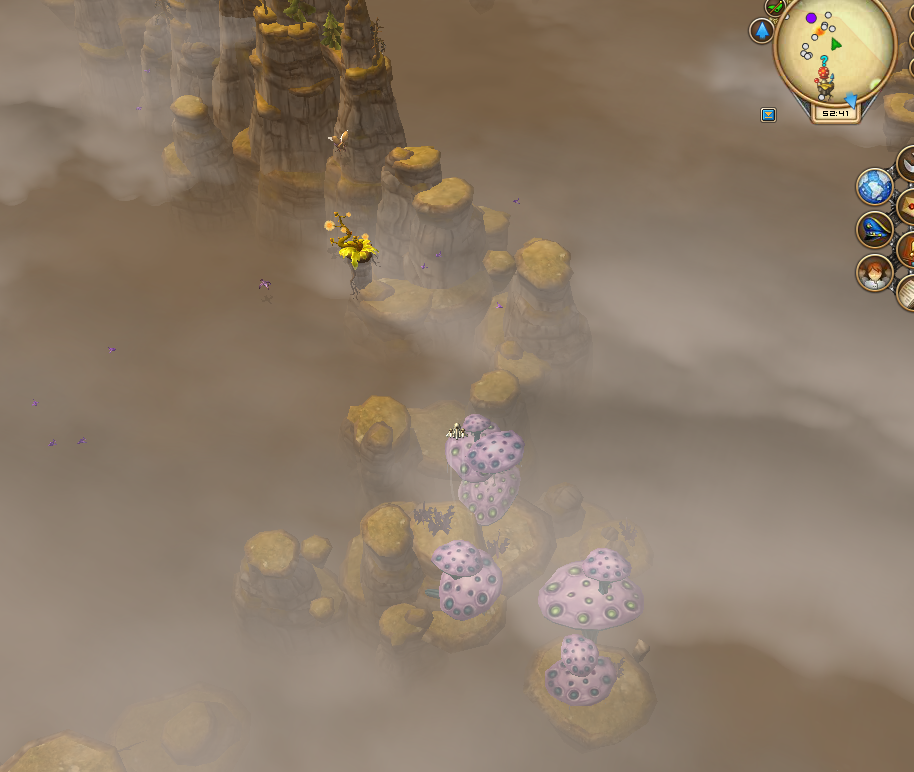dandelion-full: (320, 204, 379, 293)
